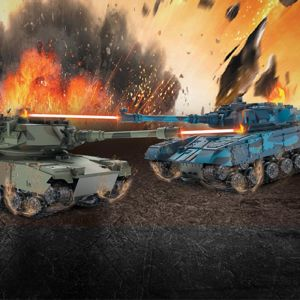Battle Tank: (150, 96, 300, 192), (1, 122, 140, 220)
